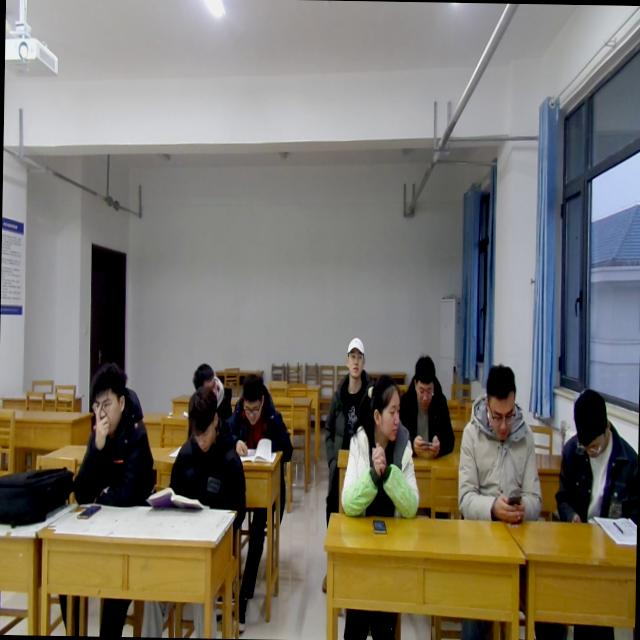down: (88, 359, 128, 438), (482, 363, 520, 444), (570, 388, 610, 460), (184, 382, 222, 454), (407, 350, 440, 412), (238, 368, 266, 428), (189, 356, 218, 400)
lookup: (342, 331, 369, 381)
sit: (454, 358, 546, 526), (64, 362, 155, 511), (554, 379, 637, 518), (338, 385, 419, 525), (164, 392, 248, 516), (323, 331, 371, 472), (230, 372, 294, 468), (398, 354, 457, 458), (186, 359, 232, 407)
